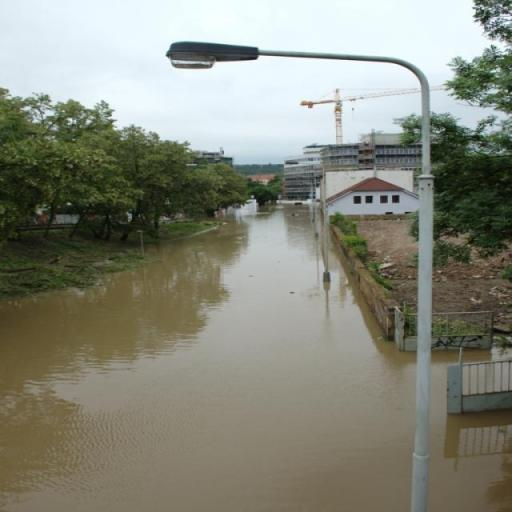flood: (0, 207, 416, 512), (430, 351, 512, 512), (463, 351, 512, 363), (235, 199, 259, 217)
house: (320, 177, 419, 215), (317, 131, 412, 167), (282, 160, 314, 202)
